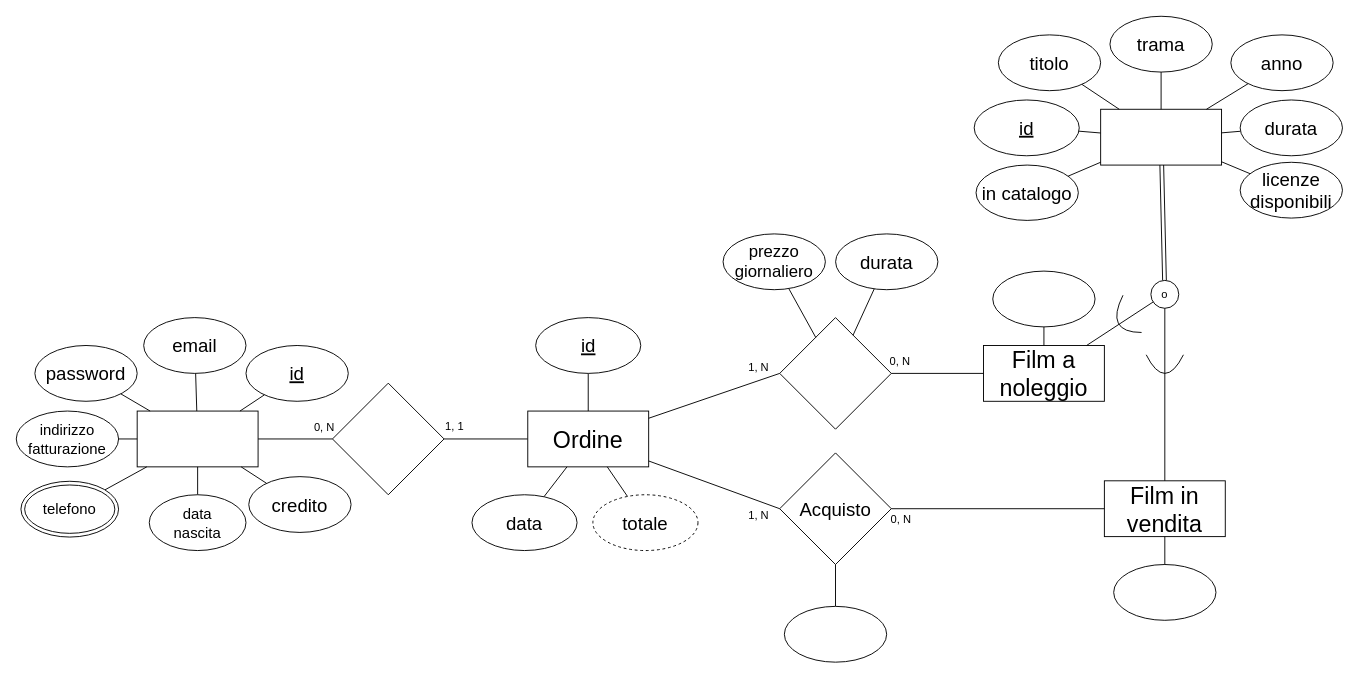
The diagram is 1359 pixels wide and 679 high, and some of its shapes have lost their labels. Each missing label, with the centre of its shape:
Effettua: the point at 388,438
Film: the point at 1161,136
Noleggio: the point at 835,373
prezzo: the point at 835,633
prezzo acquisto: the point at 1164,592
prezzo giornaliero noleggio: the point at 1043,298
Utente: the point at 197,438
